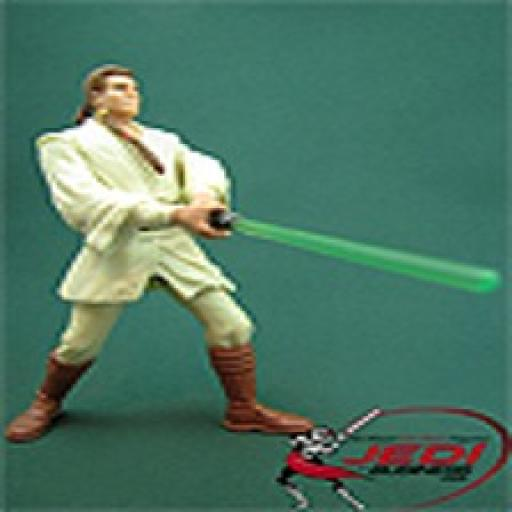human: (13, 62, 320, 433)
lightsaber: (180, 196, 512, 290)
